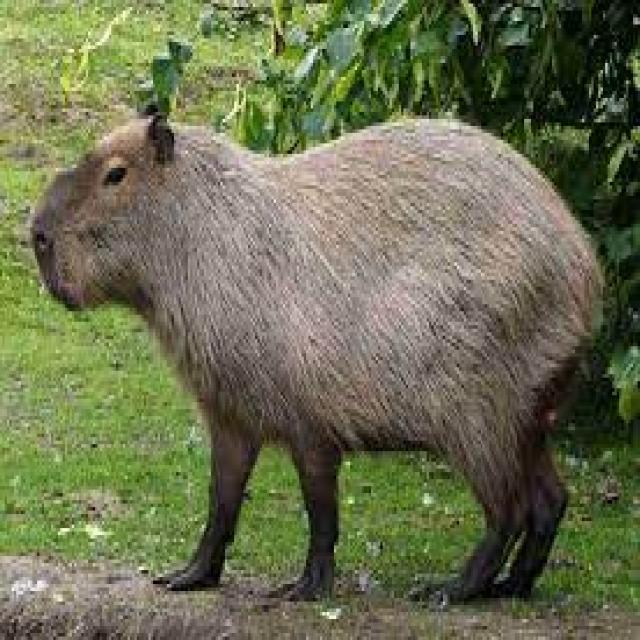capy: (30, 102, 606, 605)
